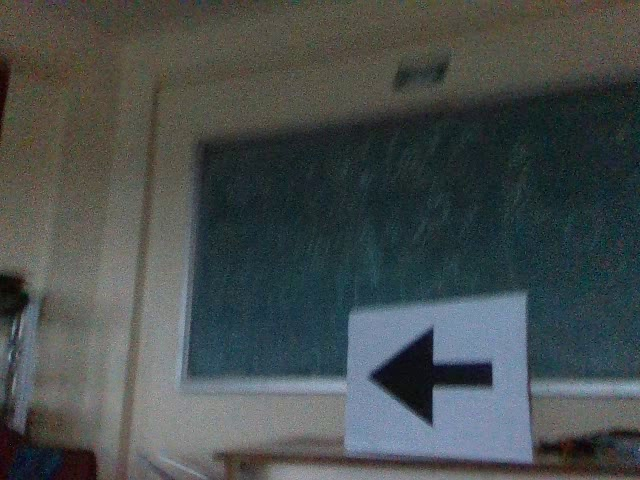Left: (364, 321, 498, 430)
